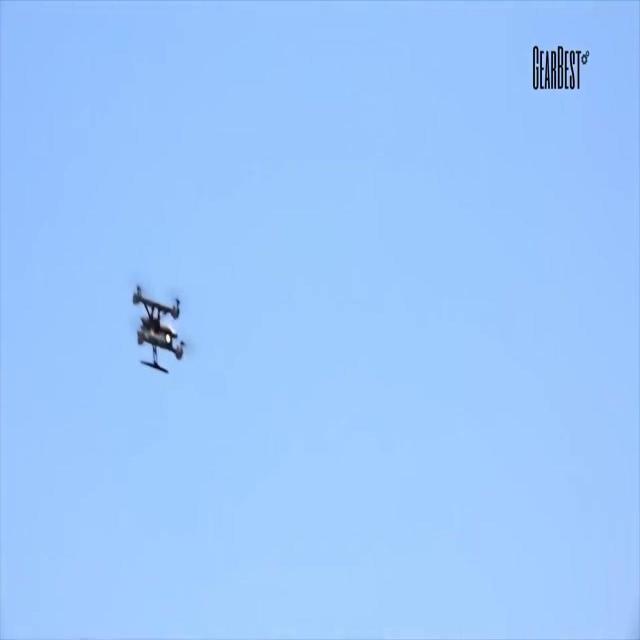UAV: (132, 284, 186, 374)
